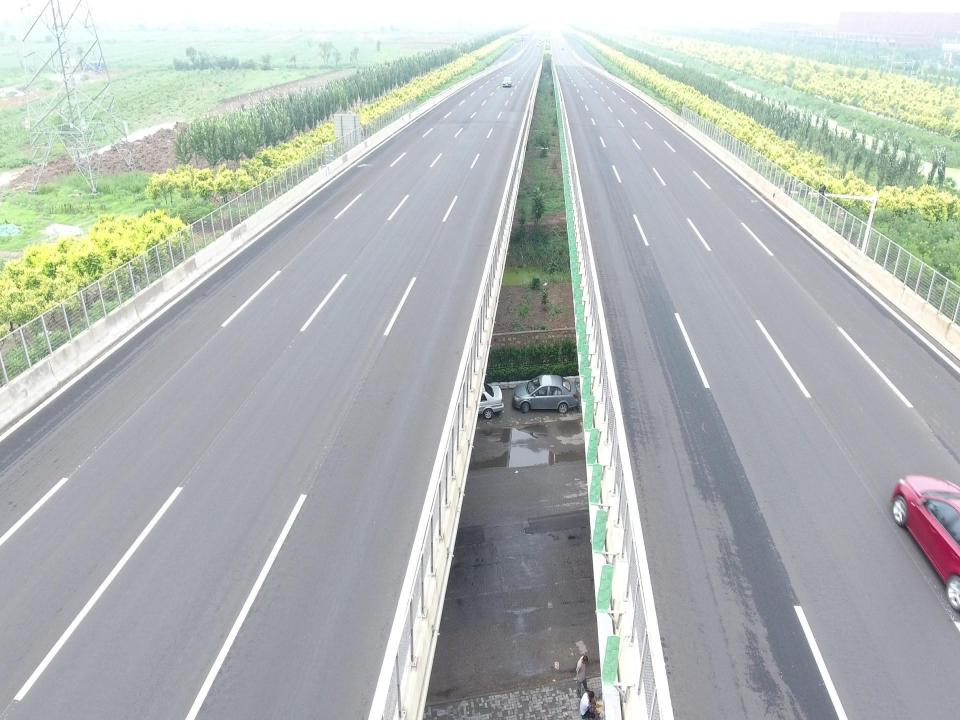car: (890, 473, 960, 612), (512, 374, 578, 415), (444, 379, 504, 421), (501, 76, 512, 88)
